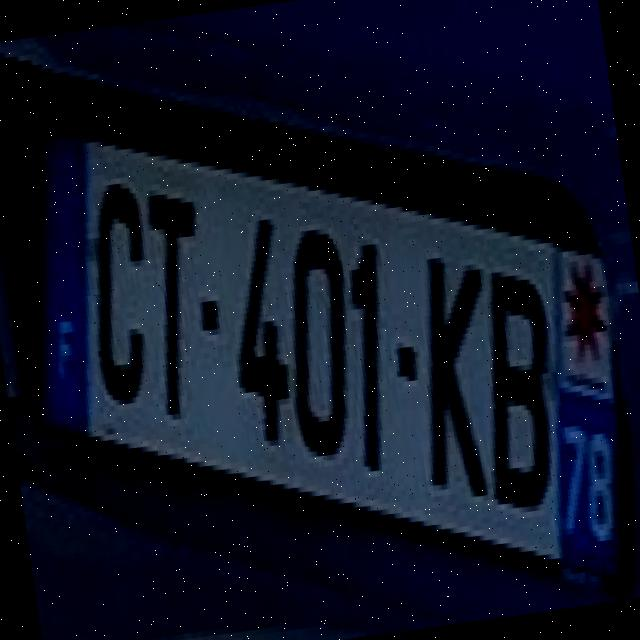EU: (39, 119, 615, 579)
France: (41, 134, 89, 449)
